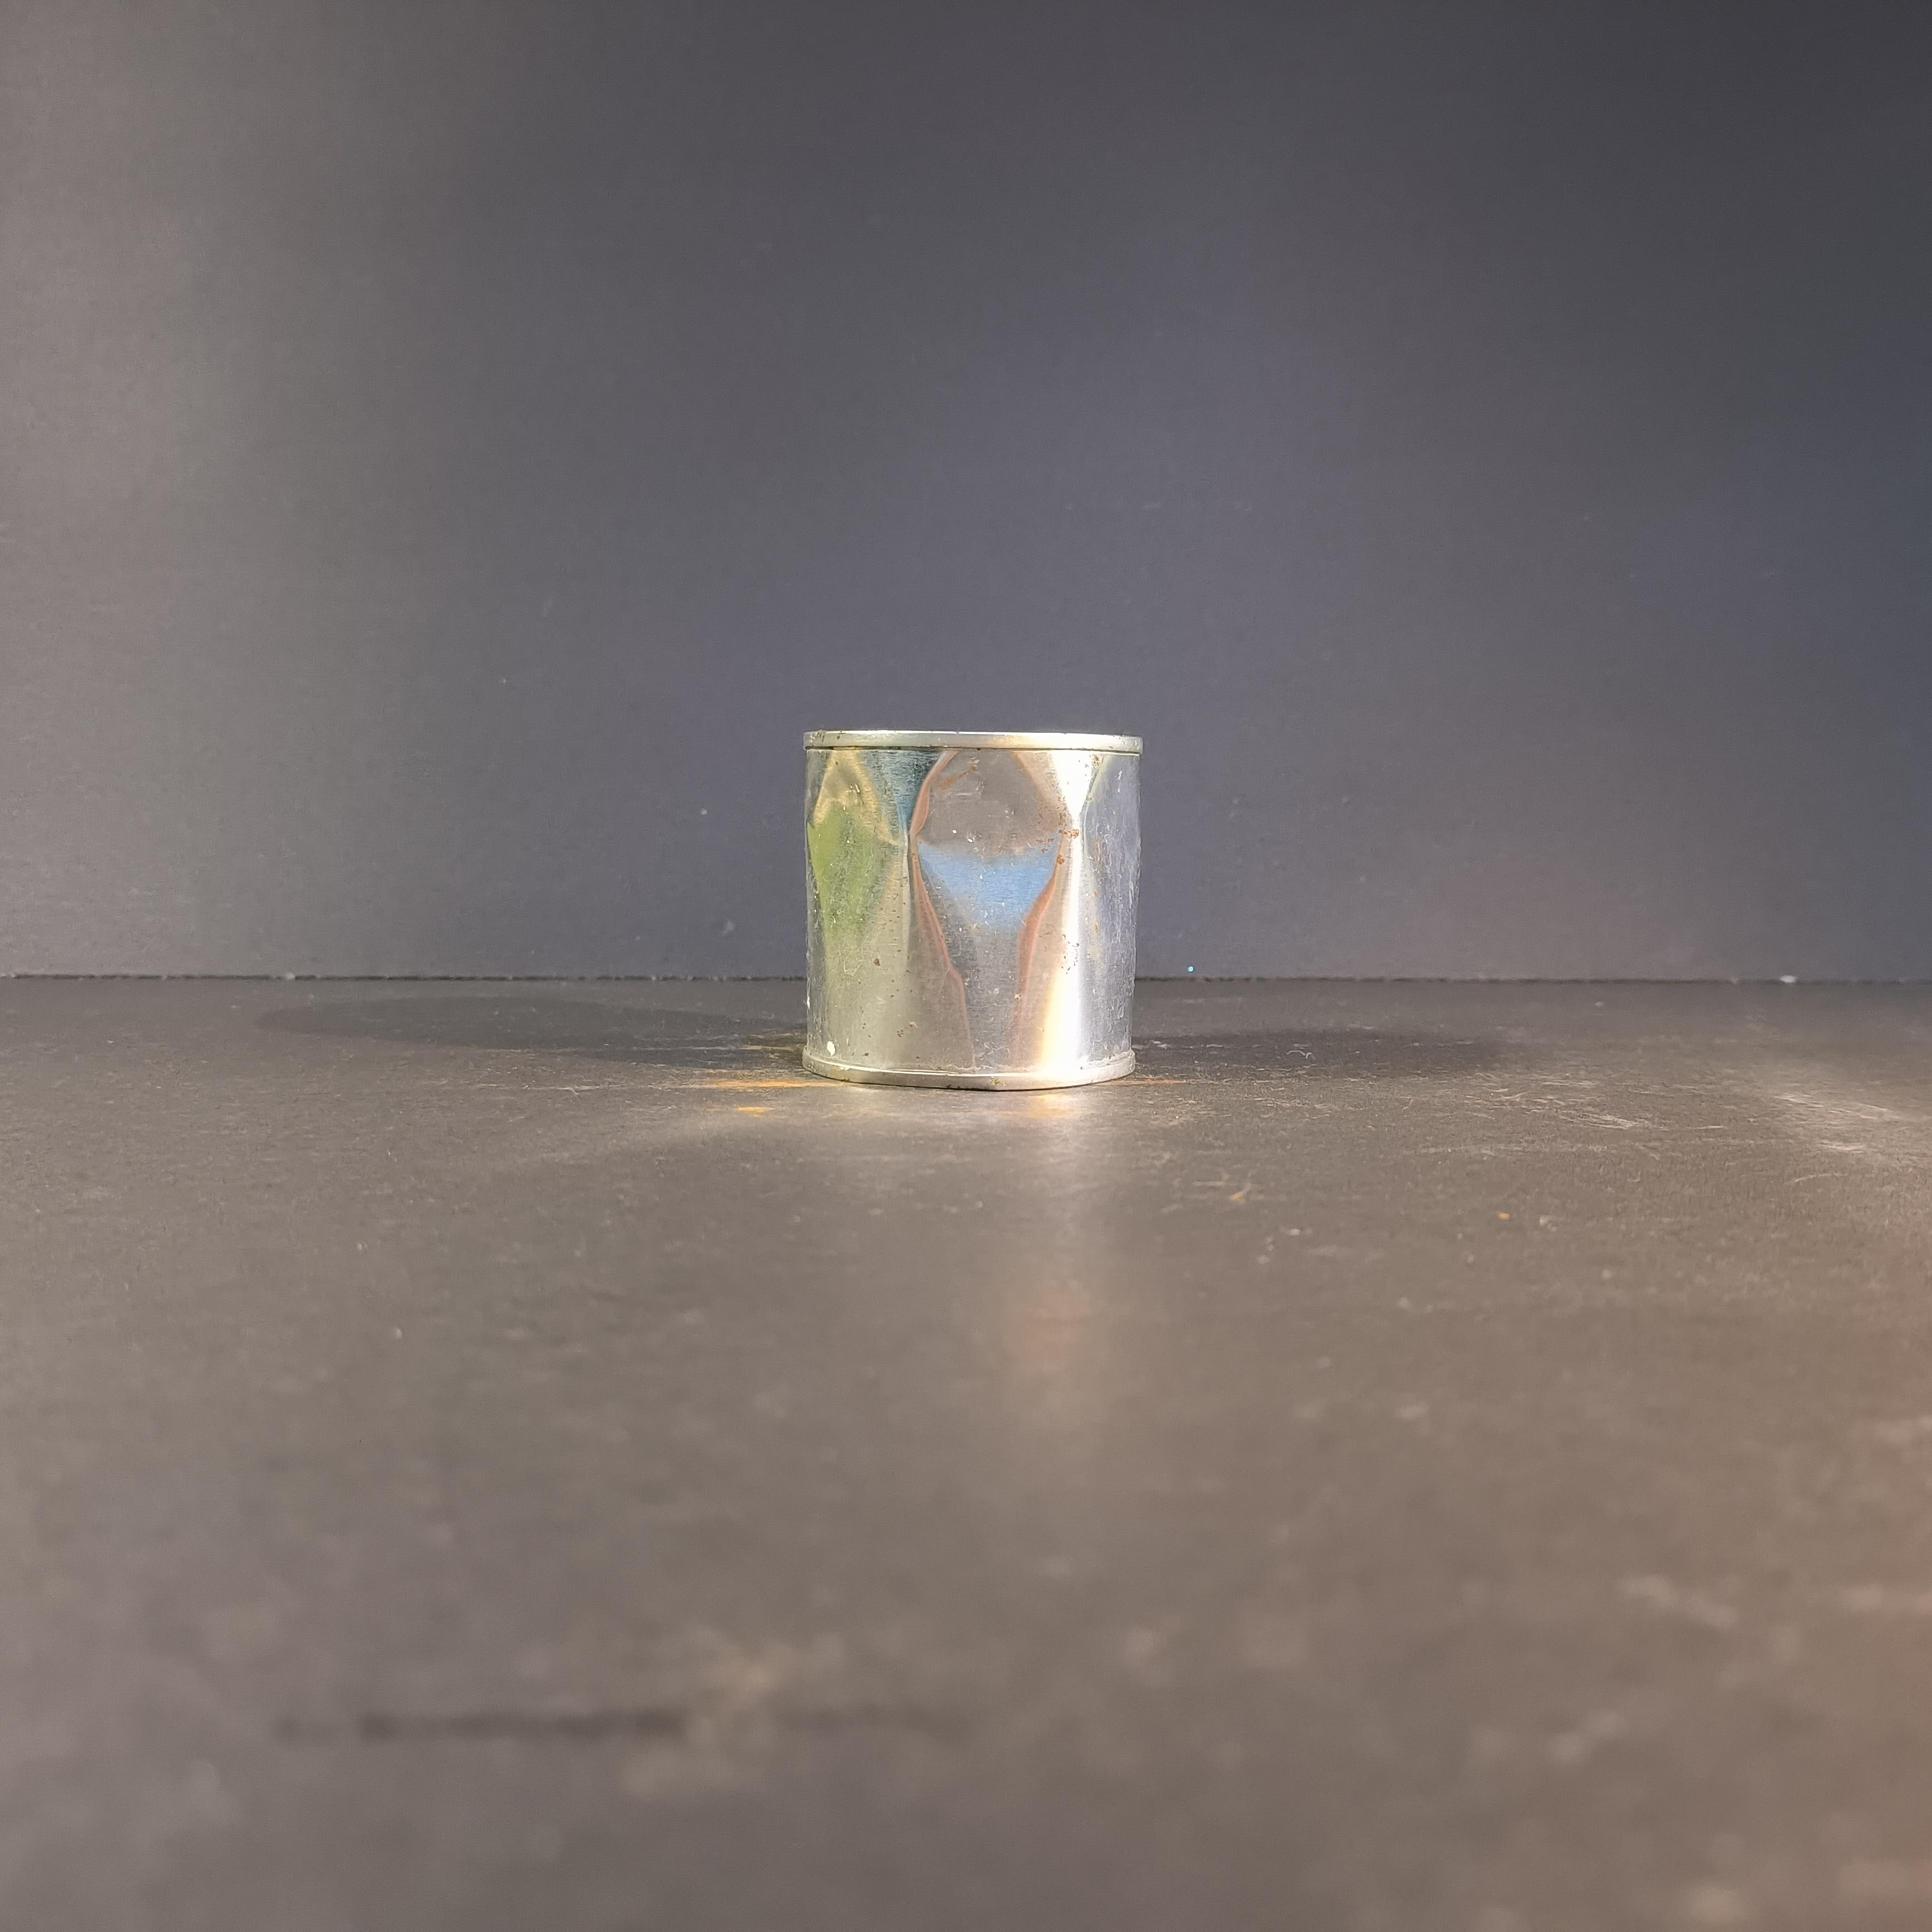Minor Defect: (802, 731, 1144, 1090)
